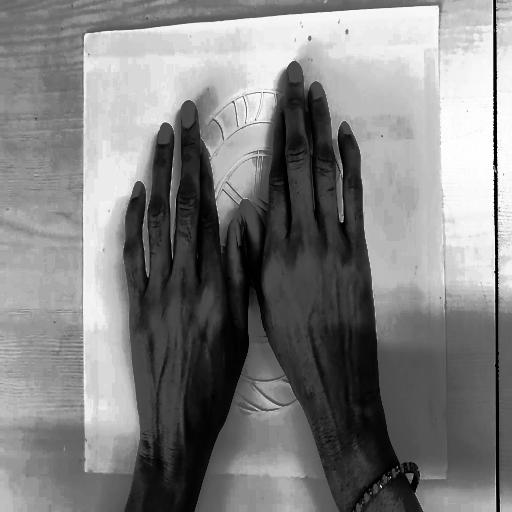bottom_left: (81, 465, 89, 480)
bottom_right: (442, 468, 450, 491)
tire: (166, 58, 358, 428)
top_left: (81, 31, 88, 47)
top_right: (436, 2, 442, 15)
